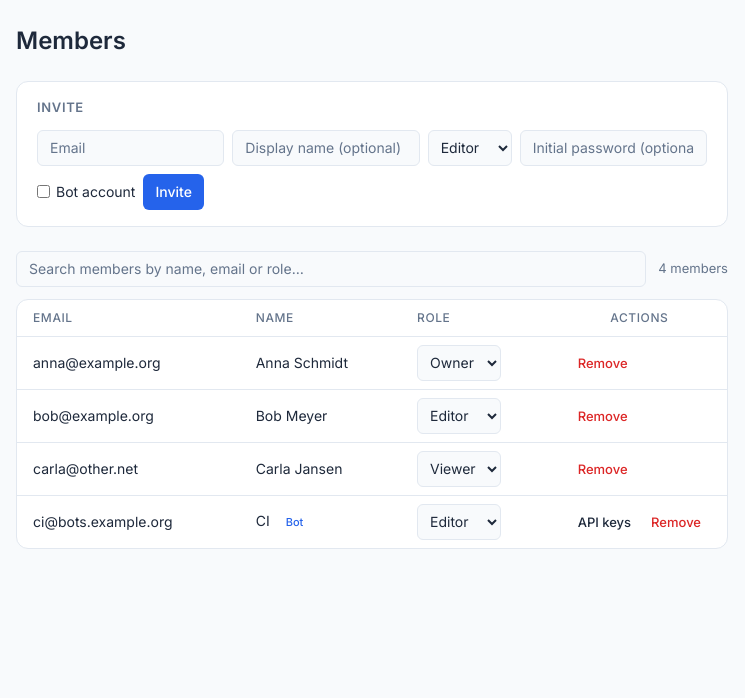
Test: MembersPage bots › opens the API keys section for a bot row
Click the button with test id "member-api-keys": (604,522) [568, 506, 641, 538]
(page scrolled)
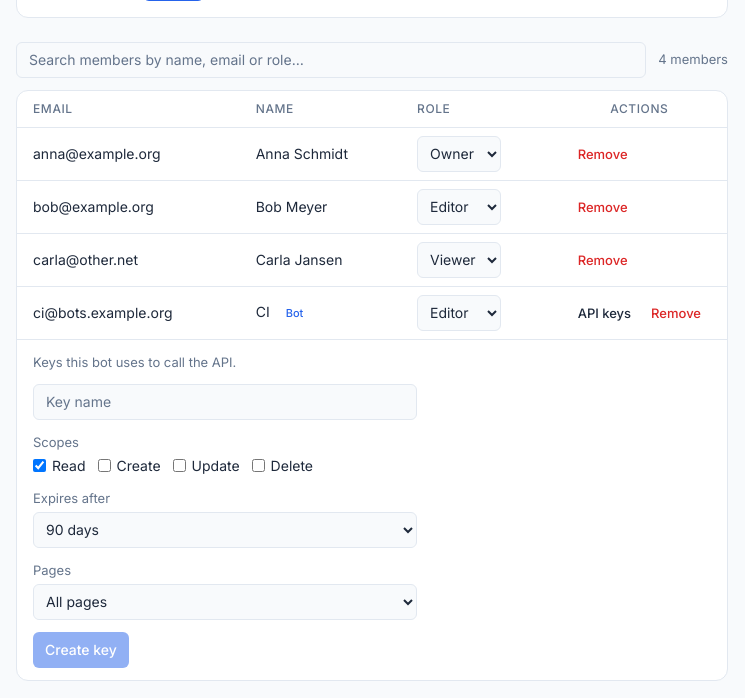
Expected: the row with test id "member-api-keys-panel-b1" is shown, [17, 339, 727, 680]
